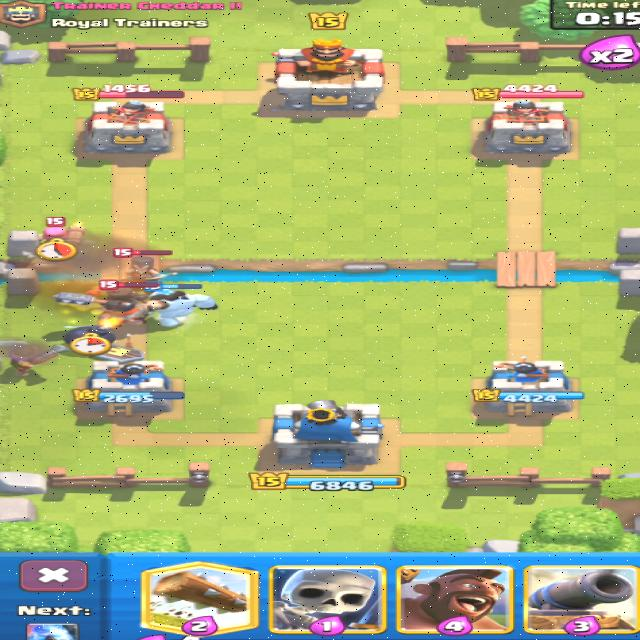Enemy-Bomb: (63, 326, 115, 356)
Enemy-DarkPrince: (54, 279, 159, 328)
Enemy-Firecracker: (42, 217, 85, 245)
Enemy-KingTower: (274, 39, 383, 111)
Enemy-NightWitch: (113, 249, 176, 281)
Enemy-PrincessTower: (481, 99, 571, 159), (84, 101, 170, 156)
Player-IceGolem: (150, 291, 216, 326)
Player-KingTower-Activated: (273, 400, 382, 469)
Player-Musketeer: (11, 344, 68, 375)
Player-PrincessTower: (473, 357, 583, 415), (73, 361, 184, 416)
